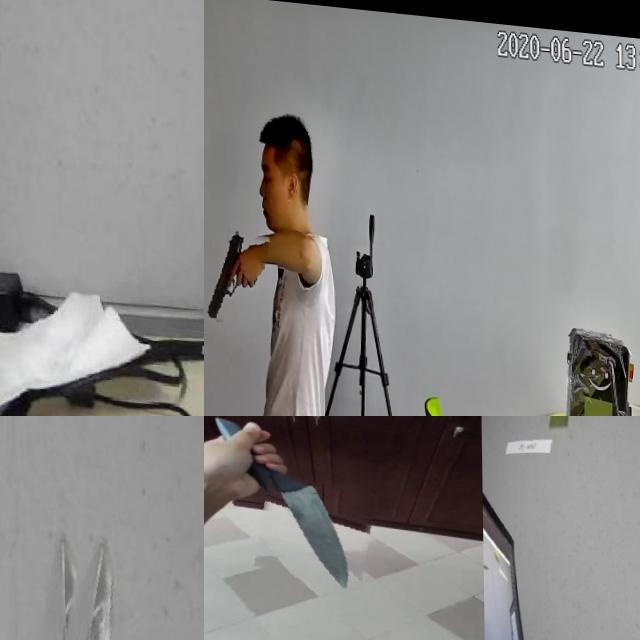-: (18, 505, 150, 640), (256, 471, 372, 589)
gun-knife-thesis - v11 Yolov5 augmented: (205, 221, 266, 329)
